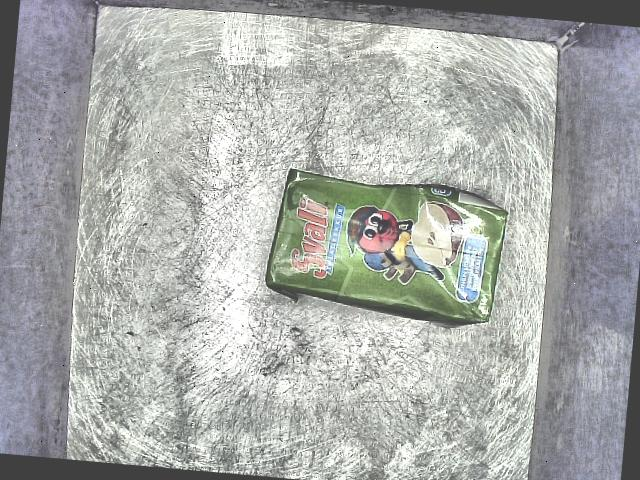Paper: (258, 153, 522, 351)
